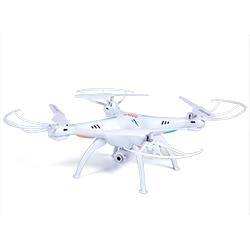drone: (1, 85, 249, 195)
